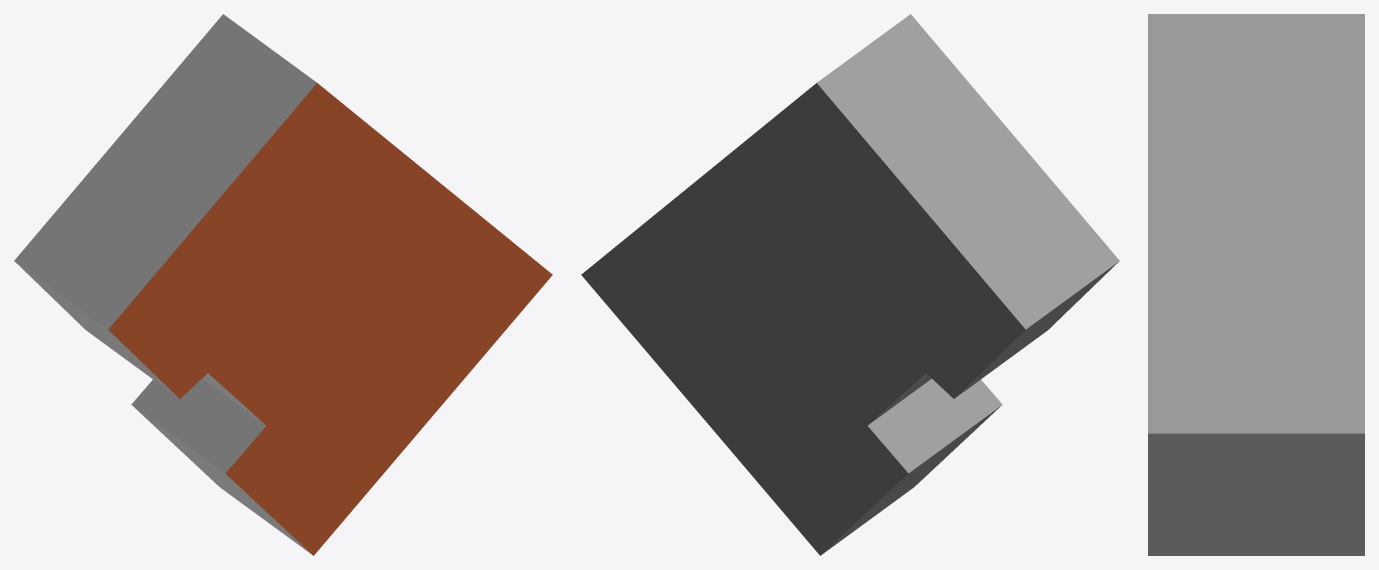
Rendered from construction_0286_assumed_A_Casa_h6m.obj.
3 views of the same model, side by side, from view 1: azimuth 30°, elevation 25°; view 2: azimuth 150°, elevation 25°; view 3: azimuth 270°, elevation 25° (orthographic). The views are drawn at different scales.
Visible parts, largest first — view 1: construction_0286_assumed_A_Casa; view 2: construction_0286_assumed_A_Casa; view 3: construction_0286_assumed_A_Casa.
Boxes of the visible parts, x1,y1,x2,y2 form: construction_0286_assumed_A_Casa: (14, 14, 552, 555); construction_0286_assumed_A_Casa: (581, 14, 1119, 555); construction_0286_assumed_A_Casa: (1148, 14, 1364, 555).
Size of the model in its own units: 16.38 by 16.62 by 6.
